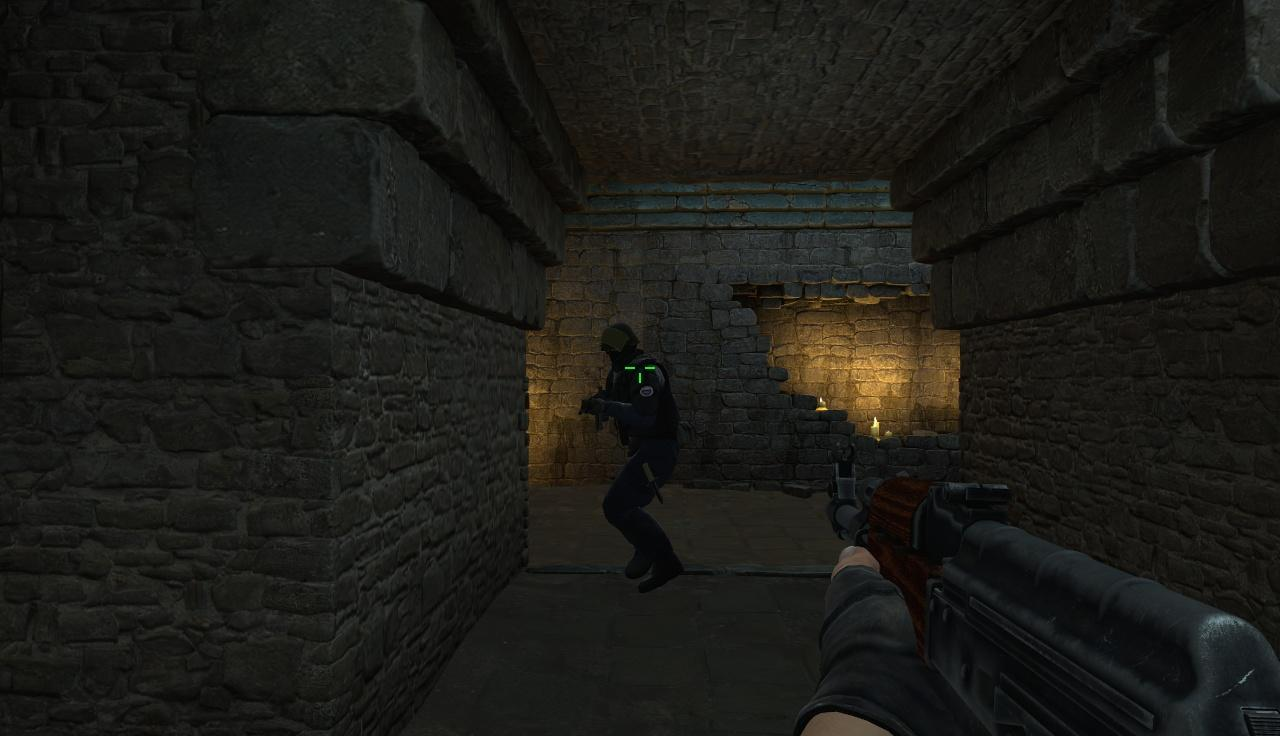ct: (593, 321, 676, 586)
cthead: (603, 321, 641, 365)
rifle: (825, 448, 1280, 731)
